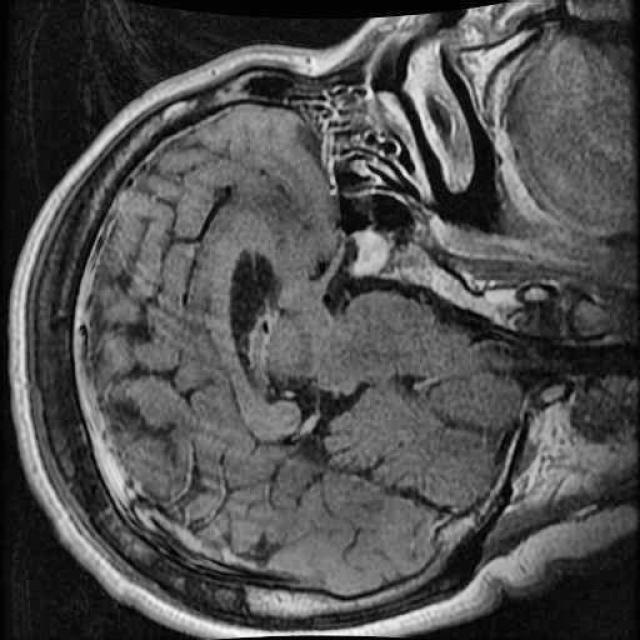Tumor: (340, 213, 402, 291)
